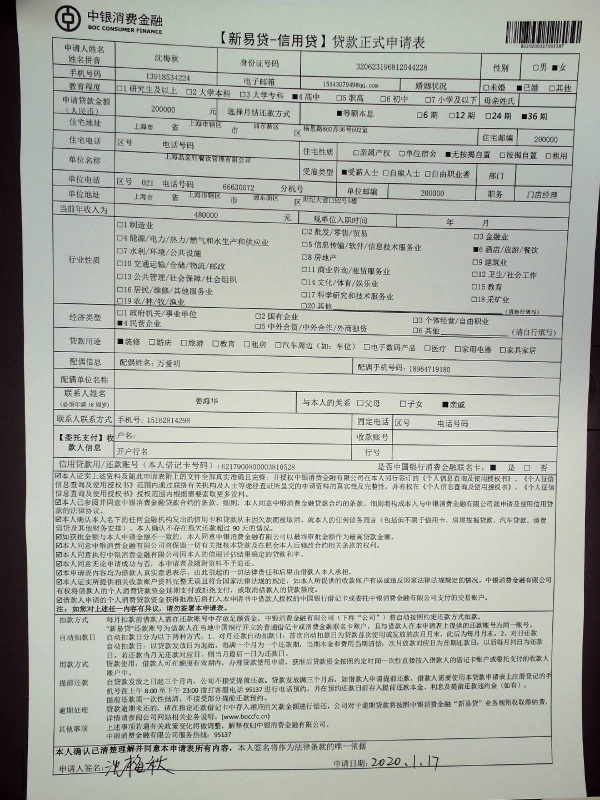text: (129, 81, 144, 109), (145, 81, 160, 109), (161, 81, 176, 109), (177, 81, 192, 109), (193, 81, 208, 109), (209, 81, 224, 109), (225, 81, 240, 109), (241, 81, 256, 109), (257, 81, 272, 109), (273, 81, 288, 109), (289, 81, 304, 109), (305, 81, 320, 109), (321, 81, 336, 109), (337, 81, 352, 109), (353, 81, 368, 109), (369, 81, 384, 109), (385, 81, 400, 109), (401, 81, 416, 109), (417, 81, 432, 109), (433, 81, 448, 109), (449, 81, 464, 109), (465, 81, 480, 109), (113, 753, 128, 781), (129, 753, 144, 781), (145, 753, 160, 781), (161, 753, 176, 781), (225, 29, 240, 54), (241, 29, 256, 54), (257, 29, 272, 54), (273, 29, 288, 54), (289, 29, 304, 54), (305, 29, 320, 54), (321, 29, 336, 54), (337, 29, 352, 54), (353, 29, 368, 54), (369, 29, 384, 54), (385, 29, 400, 54), (401, 29, 416, 54), (97, 7, 112, 30), (113, 7, 128, 30), (129, 7, 144, 30), (145, 7, 160, 30), (116, 81, 128, 109), (385, 753, 400, 775), (401, 753, 416, 775), (417, 753, 432, 775), (417, 29, 429, 54), (129, 336, 144, 356), (145, 336, 160, 356), (161, 336, 176, 356), (177, 336, 192, 356), (193, 336, 208, 356), (209, 336, 224, 356), (225, 336, 240, 356), (241, 336, 256, 356), (257, 336, 272, 356), (273, 336, 288, 356), (289, 336, 304, 356), (305, 336, 320, 356), (321, 336, 336, 356), (337, 336, 352, 356), (353, 336, 368, 356), (369, 336, 384, 356), (385, 336, 400, 356), (401, 336, 416, 356), (417, 336, 432, 356), (433, 336, 448, 356), (449, 336, 464, 356), (465, 336, 480, 356), (481, 336, 496, 356), (497, 336, 512, 356), (513, 336, 528, 356), (371, 753, 384, 775), (81, 114, 96, 131), (353, 147, 368, 164), (369, 147, 384, 164), (385, 147, 400, 164), (401, 147, 416, 164), (417, 147, 432, 164), (433, 147, 448, 164), (449, 147, 464, 164), (465, 147, 480, 164), (481, 147, 496, 164), (497, 147, 512, 164), (513, 147, 528, 164), (529, 147, 544, 164), (545, 147, 560, 164), (129, 232, 144, 249), (145, 232, 160, 249), (161, 232, 176, 249), (177, 232, 192, 249), (193, 232, 208, 249), (209, 232, 224, 249), (225, 232, 240, 249), (241, 232, 256, 249), (257, 232, 272, 249), (305, 239, 320, 256), (321, 239, 336, 256), (337, 239, 352, 256), (353, 239, 368, 256), (369, 239, 384, 256), (385, 239, 400, 256), (401, 239, 416, 256), (113, 697, 128, 714), (129, 697, 144, 714), (145, 697, 160, 714), (161, 697, 176, 714), (177, 697, 192, 714), (193, 697, 208, 714), (209, 697, 224, 714), (225, 697, 240, 714), (241, 697, 256, 714), (257, 697, 272, 714), (273, 697, 288, 714), (289, 697, 304, 714), (305, 697, 320, 714), (321, 697, 336, 714), (337, 697, 352, 714), (353, 697, 368, 714), (369, 697, 384, 714), (385, 697, 400, 714), (401, 697, 416, 714), (417, 697, 432, 714), (433, 697, 448, 714), (449, 697, 464, 714), (465, 697, 480, 714), (481, 697, 496, 714), (497, 697, 512, 714), (513, 697, 528, 714), (529, 697, 544, 714), (65, 742, 80, 759), (81, 742, 96, 759), (97, 742, 112, 759), (113, 742, 128, 759), (129, 742, 144, 759), (145, 742, 160, 759), (161, 742, 176, 759), (177, 742, 192, 759), (193, 742, 208, 759), (209, 742, 224, 759), (225, 742, 240, 759), (241, 742, 256, 759), (257, 742, 272, 759), (273, 742, 288, 759), (289, 742, 304, 759), (305, 742, 320, 759), (321, 742, 336, 759), (337, 742, 352, 759), (353, 742, 368, 759), (433, 753, 444, 775), (241, 56, 256, 72), (257, 56, 272, 72), (65, 94, 80, 110), (81, 94, 96, 110), (97, 94, 112, 110), (417, 107, 432, 123), (433, 107, 448, 123), (449, 107, 464, 123), (465, 107, 480, 123), (481, 107, 496, 123), (497, 107, 512, 123), (513, 107, 528, 123), (529, 107, 544, 123), (81, 133, 96, 149), (81, 153, 96, 169), (353, 165, 368, 181), (369, 165, 384, 181), (385, 165, 400, 181), (401, 165, 416, 181), (417, 165, 432, 181), (433, 165, 448, 181), (449, 165, 464, 181), (129, 284, 144, 300), (145, 284, 160, 300), (161, 284, 176, 300), (177, 284, 192, 300), (193, 284, 208, 300), (305, 263, 320, 279), (321, 263, 336, 279), (337, 263, 352, 279), (353, 263, 368, 279), (369, 263, 384, 279), (116, 336, 128, 356), (113, 671, 128, 687), (129, 671, 144, 687), (145, 671, 160, 687), (161, 671, 176, 687), (177, 671, 192, 687), (193, 671, 208, 687), (209, 671, 224, 687), (225, 671, 240, 687), (241, 671, 256, 687), (257, 671, 272, 687), (273, 671, 288, 687), (289, 671, 304, 687), (305, 671, 320, 687), (321, 671, 336, 687), (337, 671, 352, 687), (353, 671, 368, 687), (369, 671, 384, 687), (385, 671, 400, 687), (401, 671, 416, 687), (417, 671, 432, 687), (433, 671, 448, 687), (449, 671, 464, 687), (465, 671, 480, 687), (481, 671, 496, 687), (497, 671, 512, 687), (513, 671, 528, 687), (529, 671, 544, 687), (113, 681, 128, 697), (129, 681, 144, 697), (145, 681, 160, 697), (161, 681, 176, 697), (177, 681, 192, 697), (193, 681, 208, 697), (209, 681, 224, 697), (225, 681, 240, 697), (241, 681, 256, 697), (257, 681, 272, 697), (273, 681, 288, 697), (289, 681, 304, 697), (305, 681, 320, 697), (321, 681, 336, 697), (337, 681, 352, 697), (353, 681, 368, 697), (369, 681, 384, 697), (385, 681, 400, 697), (401, 681, 416, 697), (417, 681, 432, 697), (433, 681, 448, 697), (449, 681, 464, 697), (465, 681, 480, 697), (481, 681, 496, 697), (497, 681, 512, 697), (513, 681, 528, 697), (97, 23, 112, 38), (113, 23, 128, 38), (129, 23, 144, 38), (145, 23, 160, 38), (145, 70, 160, 85), (161, 70, 176, 85), (177, 70, 192, 85), (257, 75, 272, 90), (81, 103, 96, 118), (497, 132, 512, 147), (305, 165, 320, 180), (321, 165, 336, 180), (129, 176, 144, 191), (145, 176, 160, 191), (161, 176, 176, 191), (177, 176, 192, 191), (65, 203, 80, 218), (81, 203, 96, 218), (129, 258, 144, 273), (145, 258, 160, 273), (161, 258, 176, 273), (177, 258, 192, 273), (193, 258, 208, 273), (209, 258, 224, 273), (65, 496, 80, 511), (81, 496, 96, 511), (97, 496, 112, 511), (113, 496, 128, 511), (129, 496, 144, 511), (145, 496, 160, 511), (161, 496, 176, 511), (177, 496, 192, 511), (193, 496, 208, 511), (209, 496, 224, 511), (225, 496, 240, 511), (241, 496, 256, 511), (257, 496, 272, 511), (273, 496, 288, 511), (289, 496, 304, 511), (305, 496, 320, 511), (321, 496, 336, 511), (337, 496, 352, 511), (353, 496, 368, 511), (369, 496, 384, 511), (385, 496, 400, 511), (401, 496, 416, 511), (417, 496, 432, 511), (433, 496, 448, 511), (449, 496, 464, 511), (465, 496, 480, 511), (481, 496, 496, 511), (497, 496, 512, 511), (513, 496, 528, 511), (529, 496, 544, 511), (113, 637, 128, 652), (129, 637, 144, 652), (145, 637, 160, 652), (161, 637, 176, 652), (177, 637, 192, 652), (193, 637, 208, 652), (209, 637, 224, 652), (225, 637, 240, 652), (241, 637, 256, 652), (257, 637, 272, 652), (273, 637, 288, 652), (289, 637, 304, 652), (305, 637, 320, 652), (321, 637, 336, 652), (337, 637, 352, 652), (353, 637, 368, 652), (369, 637, 384, 652), (385, 637, 400, 652), (401, 637, 416, 652), (417, 637, 432, 652), (433, 637, 448, 652), (449, 637, 464, 652), (465, 637, 480, 652), (481, 637, 496, 652), (497, 637, 512, 652), (513, 637, 528, 652), (529, 637, 544, 652), (113, 654, 128, 669), (129, 654, 144, 669), (145, 654, 160, 669), (161, 654, 176, 669), (177, 654, 192, 669), (193, 654, 208, 669), (209, 654, 224, 669), (225, 654, 240, 669), (241, 654, 256, 669), (257, 654, 272, 669), (273, 654, 288, 669), (289, 654, 304, 669), (305, 654, 320, 669), (321, 654, 336, 669), (337, 654, 352, 669), (353, 654, 368, 669), (369, 654, 384, 669), (385, 654, 400, 669), (401, 654, 416, 669), (417, 654, 432, 669), (433, 654, 448, 669), (449, 654, 464, 669), (465, 654, 480, 669), (481, 654, 496, 669), (497, 654, 512, 669), (513, 654, 528, 669), (529, 654, 544, 669), (497, 62, 513, 76), (369, 79, 385, 93), (225, 272, 241, 286), (529, 336, 540, 356), (65, 42, 80, 56), (81, 42, 96, 56), (161, 52, 176, 66), (337, 79, 352, 93), (353, 79, 368, 93), (417, 80, 432, 94), (433, 80, 448, 94), (497, 81, 512, 95), (513, 81, 528, 95), (529, 81, 544, 95), (545, 81, 560, 95), (561, 81, 576, 95), (66, 103, 80, 118), (161, 103, 176, 117), (241, 106, 256, 120), (257, 106, 272, 120), (273, 106, 288, 120), (337, 107, 352, 121), (353, 107, 368, 121), (161, 138, 176, 152), (177, 138, 192, 152), (305, 145, 320, 159), (321, 145, 336, 159), (177, 152, 192, 166), (193, 152, 208, 166), (209, 152, 224, 166), (225, 152, 240, 166), (81, 173, 96, 187), (81, 188, 96, 202), (97, 203, 111, 218), (129, 246, 144, 260), (145, 246, 160, 260), (161, 246, 176, 260), (177, 246, 192, 260), (129, 272, 144, 286), (145, 272, 160, 286), (161, 272, 176, 286), (177, 272, 192, 286), (193, 272, 208, 286), (209, 272, 224, 286), (305, 225, 320, 239), (321, 225, 336, 239), (337, 225, 352, 239), (353, 225, 368, 239), (481, 269, 496, 283), (497, 269, 512, 283), (513, 269, 528, 283), (257, 322, 272, 336), (273, 322, 288, 336), (289, 322, 304, 336), (305, 322, 320, 336), (321, 322, 336, 336), (337, 322, 352, 336), (353, 322, 368, 336), (129, 356, 144, 370), (145, 356, 160, 370), (161, 356, 176, 370), (305, 396, 320, 410), (321, 396, 336, 410), (337, 396, 352, 410), (353, 396, 368, 410), (369, 396, 384, 410), (65, 459, 80, 473), (81, 459, 96, 473), (97, 459, 112, 473), (113, 459, 128, 473), (129, 459, 144, 473), (145, 459, 160, 473), (161, 459, 176, 473), (177, 459, 192, 473), (193, 459, 208, 473), (209, 459, 224, 473), (225, 459, 240, 473), (241, 459, 256, 473), (257, 459, 272, 473), (273, 459, 288, 473), (113, 620, 128, 634), (129, 620, 144, 634), (145, 620, 160, 634), (161, 620, 176, 634), (177, 620, 192, 634), (193, 620, 208, 634), (209, 620, 224, 634), (225, 620, 240, 634), (241, 620, 256, 634), (257, 620, 272, 634), (273, 620, 288, 634), (289, 620, 304, 634), (305, 620, 320, 634), (321, 620, 336, 634), (337, 620, 352, 634), (353, 620, 368, 634), (369, 620, 384, 634), (385, 620, 400, 634), (401, 620, 416, 634), (417, 620, 432, 634), (433, 620, 448, 634), (449, 620, 464, 634), (465, 620, 480, 634), (481, 620, 496, 634), (497, 620, 512, 634), (513, 620, 528, 634), (113, 629, 128, 643), (129, 629, 144, 643), (145, 629, 160, 643), (161, 629, 176, 643), (177, 629, 192, 643), (193, 629, 208, 643), (209, 629, 224, 643), (225, 629, 240, 643), (241, 629, 256, 643), (257, 629, 272, 643), (273, 629, 288, 643), (289, 629, 304, 643), (305, 629, 320, 643), (321, 629, 336, 643), (337, 629, 352, 643), (353, 629, 368, 643), (369, 629, 384, 643), (385, 629, 400, 643), (401, 629, 416, 643), (417, 629, 432, 643), (433, 629, 448, 643), (449, 629, 464, 643), (465, 629, 480, 643), (481, 629, 496, 643), (497, 629, 512, 643), (513, 629, 528, 643), (529, 629, 544, 643), (113, 719, 128, 733), (129, 719, 144, 733), (145, 719, 160, 733), (161, 719, 176, 733), (177, 719, 192, 733), (193, 719, 208, 733), (209, 719, 224, 733), (225, 719, 240, 733), (241, 719, 256, 733), (257, 719, 272, 733), (273, 719, 288, 733), (289, 719, 304, 733), (305, 719, 320, 733), (65, 762, 80, 776), (81, 762, 96, 776), (337, 757, 352, 771), (353, 757, 368, 771), (545, 188, 561, 201), (68, 114, 80, 131), (116, 232, 128, 249), (322, 79, 336, 93), (226, 106, 240, 120), (241, 152, 255, 166), (105, 753, 112, 781), (81, 55, 96, 68), (369, 61, 384, 74), (385, 61, 400, 74), (401, 61, 416, 74), (417, 61, 432, 74), (545, 62, 560, 75), (81, 66, 96, 79), (243, 75, 256, 90), (81, 81, 96, 94), (305, 124, 320, 137), (321, 124, 336, 137), (337, 124, 352, 137), (353, 124, 368, 137), (483, 132, 496, 147), (545, 134, 560, 147), (353, 186, 368, 199), (529, 188, 544, 201), (305, 194, 320, 207), (321, 194, 336, 207), (337, 194, 352, 207), (321, 213, 336, 226), (337, 213, 352, 226), (353, 213, 368, 226), (305, 289, 320, 302), (321, 289, 336, 302), (337, 289, 352, 302), (353, 289, 368, 302), (369, 289, 384, 302), (481, 281, 496, 294), (129, 307, 144, 320), (145, 307, 160, 320), (161, 307, 176, 320), (177, 307, 192, 320), (129, 318, 144, 331), (145, 318, 160, 331), (369, 362, 384, 375), (385, 362, 400, 375), (401, 362, 416, 375), (417, 362, 432, 375), (433, 362, 448, 375), (65, 374, 80, 387), (81, 374, 96, 387), (65, 387, 80, 400), (81, 387, 96, 400), (65, 412, 80, 425), (81, 412, 96, 425), (97, 412, 112, 425), (65, 431, 80, 444), (81, 431, 96, 444), (97, 431, 112, 444), (65, 480, 80, 493), (81, 480, 96, 493), (97, 480, 112, 493), (113, 480, 128, 493), (129, 480, 144, 493), (145, 480, 160, 493), (161, 480, 176, 493), (177, 480, 192, 493), (193, 480, 208, 493), (209, 480, 224, 493), (225, 480, 240, 493), (241, 480, 256, 493), (257, 480, 272, 493), (273, 480, 288, 493), (289, 480, 304, 493), (305, 480, 320, 493), (321, 480, 336, 493), (337, 480, 352, 493), (353, 480, 368, 493), (369, 480, 384, 493), (385, 480, 400, 493), (401, 480, 416, 493), (417, 480, 432, 493), (433, 480, 448, 493), (449, 480, 464, 493), (465, 480, 480, 493), (481, 480, 496, 493), (497, 480, 512, 493), (513, 480, 528, 493), (529, 480, 544, 493), (65, 593, 80, 606), (81, 593, 96, 606), (97, 593, 112, 606), (113, 593, 128, 606), (129, 593, 144, 606), (145, 593, 160, 606), (161, 593, 176, 606), (177, 593, 192, 606), (193, 593, 208, 606), (209, 593, 224, 606), (225, 593, 240, 606), (241, 593, 256, 606), (257, 593, 272, 606), (273, 593, 288, 606), (289, 593, 304, 606), (305, 593, 320, 606), (321, 593, 336, 606), (337, 593, 352, 606), (353, 593, 368, 606), (369, 593, 384, 606), (385, 593, 400, 606), (401, 593, 416, 606), (417, 593, 432, 606), (433, 593, 448, 606), (449, 593, 464, 606), (465, 593, 480, 606), (113, 612, 128, 625), (129, 612, 144, 625), (145, 612, 160, 625), (161, 612, 176, 625), (177, 612, 192, 625), (193, 612, 208, 625), (209, 612, 224, 625), (225, 612, 240, 625), (241, 612, 256, 625), (257, 612, 272, 625), (273, 612, 288, 625), (289, 612, 304, 625), (305, 612, 320, 625), (321, 612, 336, 625), (337, 612, 352, 625), (353, 612, 368, 625), (369, 612, 384, 625), (385, 612, 400, 625), (401, 612, 416, 625), (417, 612, 432, 625), (433, 612, 448, 625), (449, 612, 464, 625), (465, 612, 480, 625), (113, 712, 128, 725), (129, 712, 144, 725), (145, 712, 160, 725), (161, 712, 176, 725), (177, 712, 192, 725), (193, 712, 208, 725), (209, 712, 224, 725), (225, 712, 240, 725), (241, 712, 256, 725), (257, 712, 272, 725), (209, 119, 225, 131), (68, 133, 80, 149), (68, 153, 80, 169), (116, 284, 128, 300), (321, 300, 337, 312), (497, 231, 513, 243), (305, 585, 321, 597), (561, 147, 572, 164), (88, 7, 96, 30), (483, 81, 496, 95), (67, 188, 80, 202), (145, 191, 158, 205), (193, 246, 206, 260), (97, 374, 111, 387), (321, 719, 334, 733), (497, 95, 512, 107), (209, 106, 224, 118), (193, 119, 208, 131), (257, 120, 272, 132), (225, 181, 240, 193), (241, 181, 256, 193), (289, 183, 304, 195), (433, 187, 448, 199), (193, 189, 208, 201), (129, 219, 144, 231), (116, 258, 128, 273), (129, 296, 144, 308), (145, 296, 160, 308), (161, 296, 176, 308), (305, 251, 320, 263), (321, 251, 336, 263), (305, 300, 320, 312), (481, 231, 496, 243), (481, 244, 496, 256), (497, 244, 512, 256), (513, 244, 528, 256), (481, 257, 496, 269), (481, 294, 496, 306), (81, 254, 96, 266), (81, 312, 96, 324), (417, 325, 432, 337), (513, 327, 528, 339), (529, 327, 544, 339), (81, 335, 96, 347), (81, 356, 96, 368), (129, 414, 144, 426), (145, 414, 160, 426), (161, 414, 176, 426), (177, 414, 192, 426), (449, 418, 464, 430), (369, 431, 384, 443), (385, 462, 400, 474), (401, 462, 416, 474), (417, 462, 432, 474), (433, 462, 448, 474), (449, 462, 464, 474), (465, 462, 480, 474), (481, 462, 496, 474), (497, 462, 512, 474), (513, 462, 528, 474), (529, 462, 544, 474), (65, 471, 80, 483), (81, 471, 96, 483), (97, 471, 112, 483), (113, 471, 128, 483), (129, 471, 144, 483), (145, 471, 160, 483), (161, 471, 176, 483), (177, 471, 192, 483), (193, 471, 208, 483), (209, 471, 224, 483), (225, 471, 240, 483), (241, 471, 256, 483), (257, 471, 272, 483), (273, 471, 288, 483), (289, 471, 304, 483), (305, 471, 320, 483), (321, 471, 336, 483), (337, 471, 352, 483), (353, 471, 368, 483), (369, 471, 384, 483), (385, 471, 400, 483), (401, 471, 416, 483), (417, 471, 432, 483), (433, 471, 448, 483), (449, 471, 464, 483), (465, 471, 480, 483), (481, 471, 496, 483), (497, 471, 512, 483), (513, 471, 528, 483), (529, 471, 544, 483), (65, 488, 80, 500), (81, 488, 96, 500), (97, 488, 112, 500), (113, 488, 128, 500), (129, 488, 144, 500), (145, 488, 160, 500), (161, 488, 176, 500), (177, 488, 192, 500), (193, 488, 208, 500), (209, 488, 224, 500), (225, 488, 240, 500), (65, 531, 80, 543), (81, 531, 96, 543), (97, 531, 112, 543), (113, 531, 128, 543), (129, 531, 144, 543), (145, 531, 160, 543), (161, 531, 176, 543), (177, 531, 192, 543), (193, 531, 208, 543), (209, 531, 224, 543), (225, 531, 240, 543), (241, 531, 256, 543), (257, 531, 272, 543), (273, 531, 288, 543), (289, 531, 304, 543), (305, 531, 320, 543), (321, 531, 336, 543), (337, 531, 352, 543), (353, 531, 368, 543), (369, 531, 384, 543), (65, 567, 80, 579), (81, 567, 96, 579), (97, 567, 112, 579), (113, 567, 128, 579), (129, 567, 144, 579), (145, 567, 160, 579), (161, 567, 176, 579), (177, 567, 192, 579), (193, 567, 208, 579), (209, 567, 224, 579), (225, 567, 240, 579), (241, 567, 256, 579), (257, 567, 272, 579), (273, 567, 288, 579), (289, 567, 304, 579), (305, 567, 320, 579), (321, 567, 336, 579), (337, 567, 352, 579), (65, 575, 80, 587), (81, 575, 96, 587), (97, 575, 112, 587), (113, 575, 128, 587), (129, 575, 144, 587), (145, 575, 160, 587), (161, 575, 176, 587), (177, 575, 192, 587), (193, 575, 208, 587), (209, 575, 224, 587), (225, 575, 240, 587), (241, 575, 256, 587), (257, 575, 272, 587), (273, 575, 288, 587), (289, 575, 304, 587), (305, 575, 320, 587), (321, 575, 336, 587), (337, 575, 352, 587), (353, 575, 368, 587), (369, 575, 384, 587), (385, 575, 400, 587), (401, 575, 416, 587), (417, 575, 432, 587), (433, 575, 448, 587), (449, 575, 464, 587), (465, 575, 480, 587), (481, 575, 496, 587), (497, 575, 512, 587), (513, 575, 528, 587), (529, 575, 544, 587), (65, 585, 80, 597), (81, 585, 96, 597), (97, 585, 112, 597), (113, 585, 128, 597), (129, 585, 144, 597), (145, 585, 160, 597), (161, 585, 176, 597), (177, 585, 192, 597), (193, 585, 208, 597), (209, 585, 224, 597), (225, 585, 240, 597), (241, 585, 256, 597), (257, 585, 272, 597), (273, 585, 288, 597), (289, 585, 304, 597), (65, 603, 80, 615), (81, 603, 96, 615), (97, 603, 112, 615), (113, 603, 128, 615), (129, 603, 144, 615), (145, 603, 160, 615), (161, 603, 176, 615), (177, 603, 192, 615), (193, 603, 208, 615), (209, 603, 224, 615), (65, 632, 80, 644), (81, 632, 96, 644), (113, 650, 128, 662), (129, 650, 144, 662), (145, 650, 160, 662), (161, 650, 176, 662), (177, 650, 192, 662), (193, 650, 208, 662), (209, 650, 224, 662), (225, 650, 240, 662), (241, 650, 256, 662), (257, 650, 272, 662), (273, 650, 288, 662), (113, 694, 128, 706), (129, 694, 144, 706), (145, 694, 160, 706), (161, 694, 176, 706), (177, 694, 192, 706), (193, 694, 208, 706), (209, 694, 224, 706), (225, 694, 240, 706), (241, 694, 256, 706), (257, 694, 272, 706), (113, 730, 128, 742), (129, 730, 144, 742), (145, 730, 160, 742), (161, 730, 176, 742), (177, 730, 192, 742), (193, 730, 208, 742), (209, 730, 224, 742), (341, 165, 352, 181), (97, 399, 113, 410), (67, 55, 80, 68), (355, 61, 368, 74), (97, 66, 110, 79), (67, 81, 80, 94), (97, 387, 110, 400), (545, 480, 558, 493), (97, 42, 109, 56), (68, 173, 80, 187), (132, 191, 144, 205), (209, 189, 223, 201), (145, 219, 159, 231), (116, 246, 128, 260), (116, 272, 128, 286), (497, 257, 511, 269), (529, 269, 541, 283), (497, 294, 511, 306), (545, 327, 559, 339), (369, 446, 383, 458), (545, 471, 559, 483), (85, 23, 96, 38), (117, 176, 128, 191), (257, 192, 272, 203), (193, 210, 208, 221), (481, 218, 496, 229), (305, 277, 320, 288), (321, 277, 336, 288), (337, 277, 352, 288), (353, 277, 368, 288), (513, 307, 528, 318), (257, 311, 272, 322), (273, 311, 288, 322), (65, 399, 80, 410), (81, 399, 96, 410), (401, 400, 416, 411), (449, 399, 464, 410), (81, 442, 96, 453), (129, 446, 144, 457), (53, 496, 64, 511), (545, 496, 556, 511), (65, 515, 80, 526), (81, 515, 96, 526), (97, 515, 112, 526), (113, 515, 128, 526), (129, 515, 144, 526), (145, 515, 160, 526), (161, 515, 176, 526), (177, 515, 192, 526), (193, 515, 208, 526), (209, 515, 224, 526), (225, 515, 240, 526), (241, 515, 256, 526), (257, 515, 272, 526), (273, 515, 288, 526), (289, 515, 304, 526), (305, 515, 320, 526), (321, 515, 336, 526), (337, 515, 352, 526), (353, 515, 368, 526), (369, 515, 384, 526), (385, 515, 400, 526), (401, 515, 416, 526), (417, 515, 432, 526), (433, 515, 448, 526), (449, 515, 464, 526), (465, 515, 480, 526), (481, 515, 496, 526), (497, 515, 512, 526), (513, 515, 528, 526), (529, 515, 544, 526), (65, 558, 80, 569), (81, 558, 96, 569), (97, 558, 112, 569), (113, 558, 128, 569), (129, 558, 144, 569), (145, 558, 160, 569), (161, 558, 176, 569), (177, 558, 192, 569), (193, 558, 208, 569), (209, 558, 224, 569), (225, 558, 240, 569), (241, 558, 256, 569), (65, 705, 80, 716), (65, 725, 80, 736), (273, 56, 283, 72), (385, 263, 395, 279), (116, 137, 128, 150), (497, 169, 509, 182), (369, 186, 381, 199), (385, 289, 397, 302), (529, 244, 542, 256), (67, 254, 80, 266), (116, 307, 128, 320), (116, 318, 128, 331), (145, 121, 159, 132), (293, 127, 304, 141), (165, 152, 176, 166), (369, 277, 383, 288), (469, 269, 480, 283), (289, 459, 300, 473), (97, 114, 106, 131), (55, 742, 64, 759), (417, 315, 432, 325), (433, 315, 448, 325), (449, 315, 464, 325), (465, 315, 480, 325), (369, 417, 384, 427), (65, 506, 80, 516), (81, 506, 96, 516), (65, 523, 80, 533), (81, 523, 96, 533), (97, 523, 112, 533), (113, 523, 128, 533), (129, 523, 144, 533), (145, 523, 160, 533), (161, 523, 176, 533), (177, 523, 192, 533), (193, 523, 208, 533), (209, 523, 224, 533), (225, 523, 240, 533), (241, 523, 256, 533), (257, 523, 272, 533), (65, 540, 80, 550), (81, 540, 96, 550), (97, 540, 112, 550), (113, 540, 128, 550), (129, 540, 144, 550), (145, 540, 160, 550), (161, 540, 176, 550), (177, 540, 192, 550), (193, 540, 208, 550), (209, 540, 224, 550), (225, 540, 240, 550), (241, 540, 256, 550), (257, 540, 272, 550), (273, 540, 288, 550), (289, 540, 304, 550), (305, 540, 320, 550), (321, 540, 336, 550), (337, 540, 352, 550), (353, 540, 368, 550), (65, 550, 80, 560), (81, 550, 96, 560), (97, 550, 112, 560), (113, 550, 128, 560), (129, 550, 144, 560), (145, 550, 160, 560), (161, 550, 176, 560), (177, 550, 192, 560), (193, 550, 208, 560), (209, 550, 224, 560), (225, 550, 240, 560), (241, 550, 256, 560), (257, 550, 272, 560), (273, 550, 288, 560), (289, 550, 304, 560), (65, 615, 80, 625), (65, 659, 80, 669), (113, 669, 128, 679), (484, 95, 496, 107), (545, 107, 554, 123), (465, 165, 474, 181), (420, 187, 432, 199), (116, 219, 128, 231), (116, 296, 128, 308), (177, 296, 189, 308), (68, 312, 80, 324), (68, 356, 80, 368), (241, 488, 253, 500), (545, 671, 554, 687), (533, 62, 544, 75), (229, 125, 240, 138), (209, 210, 222, 221), (469, 281, 480, 294), (357, 362, 368, 375), (195, 396, 208, 407), (209, 396, 222, 407), (67, 442, 80, 453), (53, 480, 64, 493), (150, 103, 160, 117), (369, 540, 383, 550), (65, 678, 80, 687), (273, 120, 284, 132), (229, 194, 240, 206), (293, 197, 304, 209), (469, 294, 480, 306), (529, 307, 541, 318), (289, 311, 301, 322), (69, 335, 80, 347), (437, 418, 448, 430), (357, 431, 368, 443), (116, 446, 128, 457), (385, 531, 396, 543), (534, 134, 544, 147), (497, 281, 507, 294), (481, 593, 491, 606), (97, 133, 105, 149), (209, 284, 217, 300), (369, 107, 378, 121), (119, 356, 128, 370), (529, 620, 538, 634), (133, 121, 144, 132), (449, 217, 459, 229), (118, 414, 128, 426), (356, 417, 368, 427), (401, 418, 413, 428), (116, 431, 128, 441), (54, 488, 64, 500), (54, 531, 64, 543), (54, 575, 64, 587), (545, 575, 555, 587), (54, 603, 64, 615), (104, 654, 112, 669), (225, 730, 235, 742), (417, 239, 424, 256), (561, 62, 570, 75), (71, 66, 80, 79), (129, 137, 138, 150), (55, 593, 64, 606), (161, 7, 166, 30), (97, 153, 104, 169), (177, 356, 185, 370), (97, 762, 105, 776), (273, 192, 283, 203), (481, 315, 492, 325), (54, 515, 64, 526), (54, 558, 64, 569), (81, 615, 92, 625), (81, 659, 92, 669), (81, 705, 91, 716), (81, 725, 91, 736), (487, 188, 496, 200), (471, 257, 480, 269), (433, 325, 442, 337), (55, 471, 64, 483), (55, 567, 64, 579), (55, 585, 64, 597), (105, 637, 112, 652), (545, 654, 552, 669), (97, 81, 105, 94), (177, 121, 185, 134), (488, 169, 496, 182), (104, 712, 112, 725), (106, 697, 112, 714), (220, 29, 224, 54), (54, 506, 64, 516), (54, 523, 64, 533), (54, 540, 64, 550), (54, 550, 64, 560), (417, 400, 426, 411), (81, 678, 92, 687), (153, 52, 160, 66), (97, 173, 104, 187), (105, 620, 112, 634), (105, 629, 112, 643), (105, 719, 112, 733), (280, 183, 288, 195), (497, 188, 505, 200), (472, 231, 480, 243), (472, 244, 480, 256), (106, 671, 112, 687), (106, 681, 112, 697), (353, 194, 360, 207), (313, 213, 320, 226), (193, 307, 200, 320), (57, 412, 64, 425), (529, 44, 544, 50), (545, 44, 560, 50), (273, 75, 279, 90), (97, 103, 103, 118), (129, 431, 138, 441), (545, 697, 550, 714), (177, 52, 183, 66), (289, 106, 295, 120), (97, 188, 103, 202), (97, 335, 104, 347), (97, 356, 104, 368), (465, 418, 472, 430), (58, 459, 64, 473), (225, 603, 232, 615), (105, 650, 112, 662), (105, 730, 112, 742), (97, 506, 105, 516), (104, 669, 112, 679), (97, 55, 103, 68), (170, 121, 176, 134), (346, 186, 352, 199), (106, 612, 112, 625), (441, 399, 448, 410), (97, 442, 104, 453), (145, 446, 152, 457), (57, 705, 64, 716), (161, 23, 166, 38), (513, 132, 518, 147), (193, 176, 198, 191), (59, 203, 64, 218), (513, 95, 519, 107), (289, 212, 295, 224), (97, 254, 103, 266), (97, 312, 103, 324), (385, 431, 391, 443), (378, 462, 384, 474), (545, 462, 551, 474), (106, 694, 112, 706), (491, 62, 496, 76), (193, 138, 198, 152), (59, 762, 64, 776), (506, 307, 512, 318), (58, 725, 64, 736), (449, 362, 454, 375), (59, 431, 64, 444), (177, 193, 183, 203), (299, 300, 304, 312), (385, 417, 391, 427), (59, 632, 64, 644), (129, 669, 135, 679), (449, 80, 453, 94), (177, 103, 181, 117), (332, 757, 336, 771), (465, 399, 470, 410), (545, 515, 550, 526), (369, 124, 373, 137), (300, 289, 304, 302), (161, 318, 165, 331), (60, 374, 64, 387), (301, 239, 304, 256), (395, 418, 400, 428), (59, 615, 64, 625), (59, 659, 64, 669), (520, 44, 528, 50), (61, 94, 64, 110), (113, 94, 116, 110), (284, 212, 288, 224), (300, 251, 304, 263), (337, 251, 341, 263), (301, 263, 304, 279), (412, 325, 416, 337), (364, 446, 368, 458), (225, 258, 228, 273), (59, 678, 64, 687), (300, 277, 304, 288), (60, 399, 64, 410), (369, 225, 372, 239), (253, 322, 256, 336), (172, 193, 176, 203), (412, 315, 416, 325), (301, 194, 304, 207), (113, 431, 116, 444), (481, 612, 484, 625), (561, 44, 567, 50), (253, 120, 256, 132), (189, 189, 192, 201), (369, 742, 371, 759), (253, 192, 256, 203), (238, 56, 240, 72), (529, 681, 531, 697), (193, 70, 195, 85), (302, 165, 304, 180), (305, 550, 308, 560), (545, 637, 547, 652), (414, 80, 416, 94), (302, 225, 304, 239), (177, 753, 178, 781), (369, 757, 371, 771), (561, 134, 563, 147), (526, 188, 528, 201), (369, 213, 371, 226), (113, 412, 115, 425), (273, 712, 275, 725), (190, 119, 192, 131), (222, 181, 224, 193), (257, 181, 259, 193), (305, 183, 307, 195), (446, 217, 448, 229), (289, 650, 291, 662), (257, 558, 259, 569), (273, 523, 275, 533), (415, 107, 416, 123), (337, 165, 338, 180), (335, 107, 336, 121), (303, 145, 304, 159), (337, 145, 338, 159), (369, 322, 370, 336), (303, 396, 304, 410), (241, 125, 242, 138), (303, 124, 304, 137), (63, 387, 64, 400), (511, 327, 512, 339), (193, 414, 194, 426), (353, 567, 354, 579), (97, 632, 98, 644), (255, 311, 256, 322), (399, 400, 400, 411)
